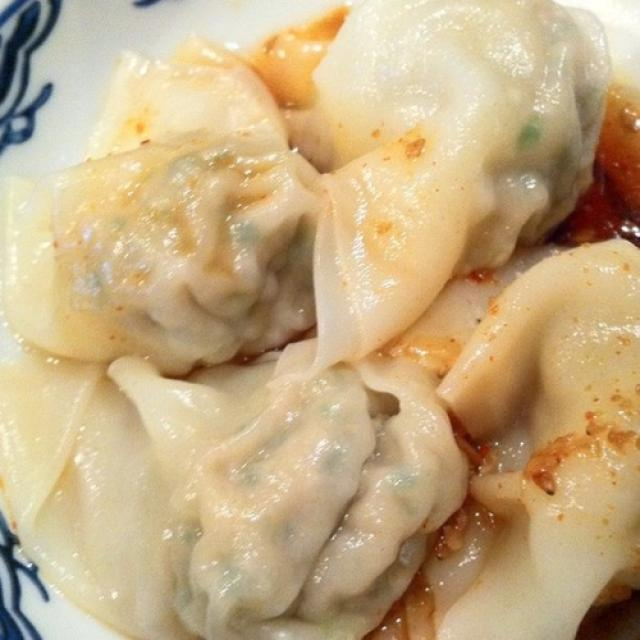带馅早点: (23, 23, 627, 626)
